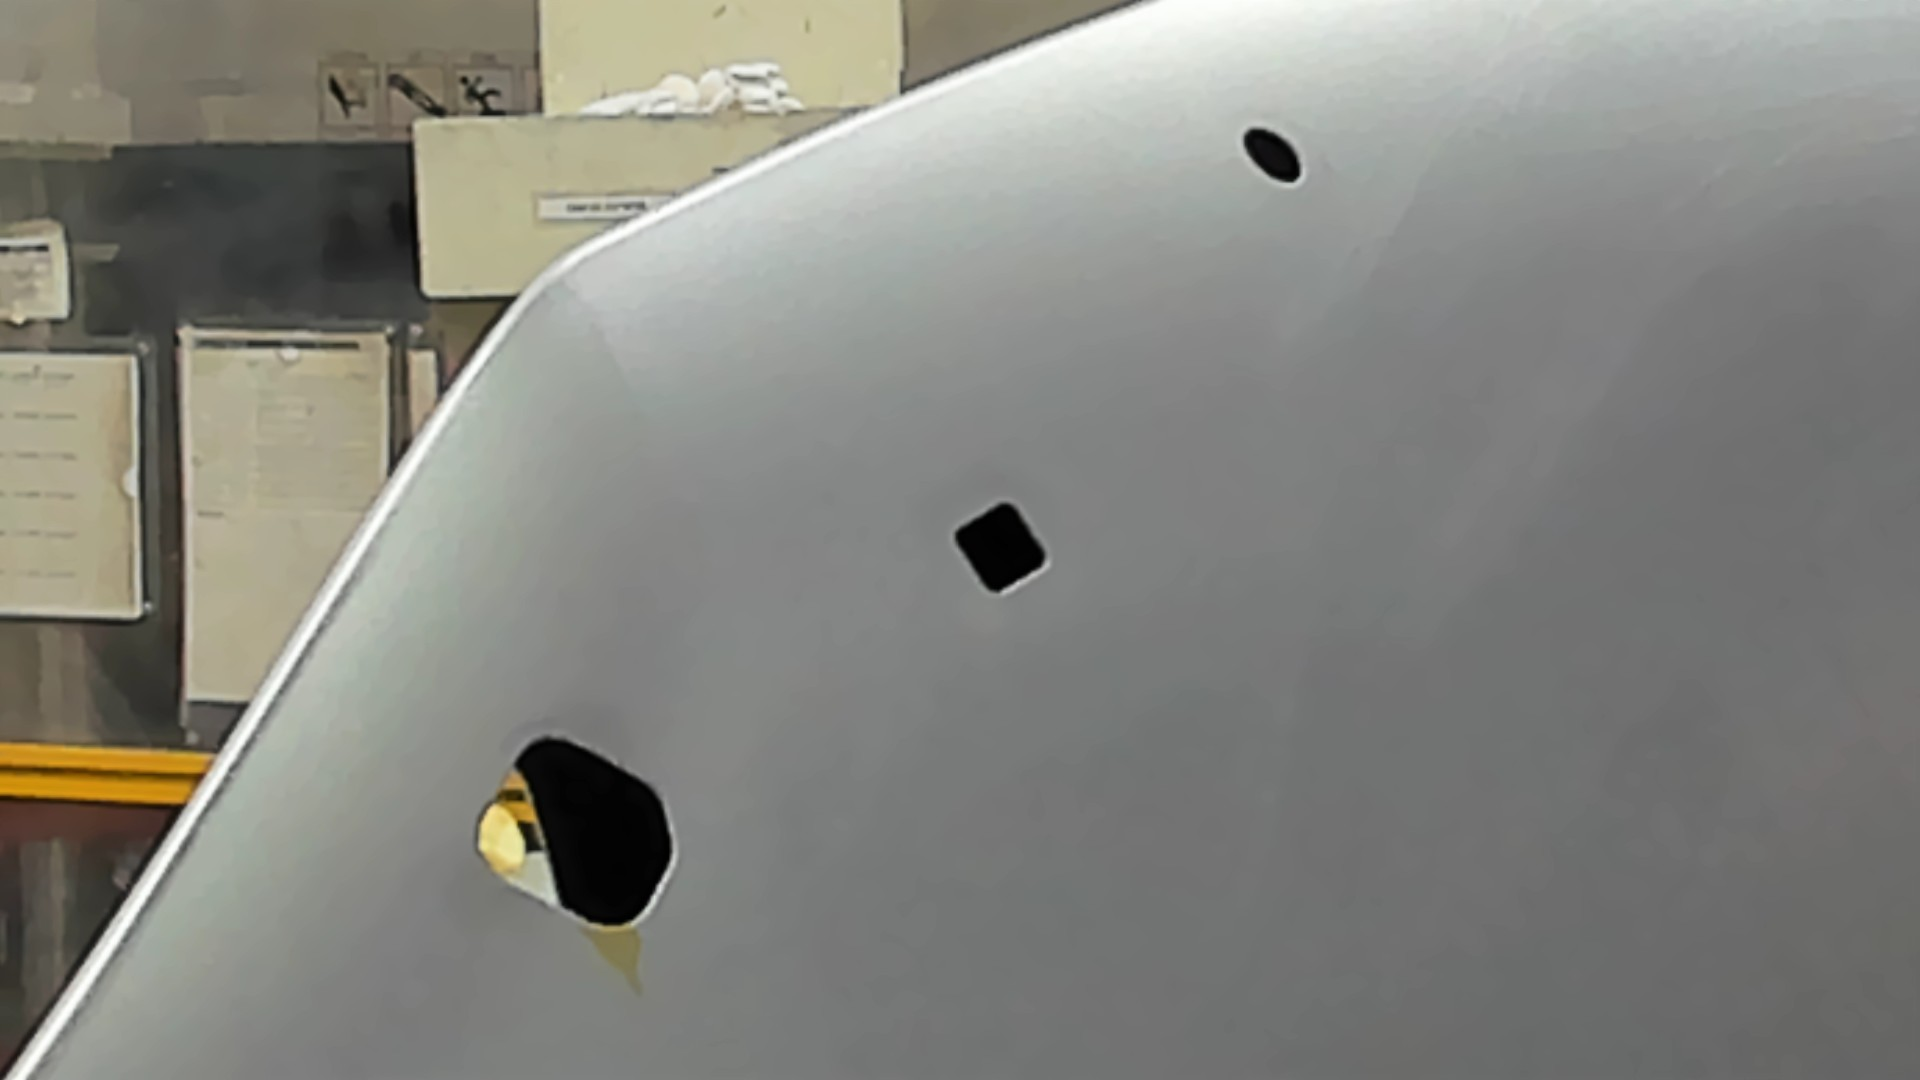capo: (1056, 200, 1920, 1080)
chico: (1236, 117, 1312, 193)
grande: (465, 724, 686, 938)
mediano: (945, 496, 1059, 604)
